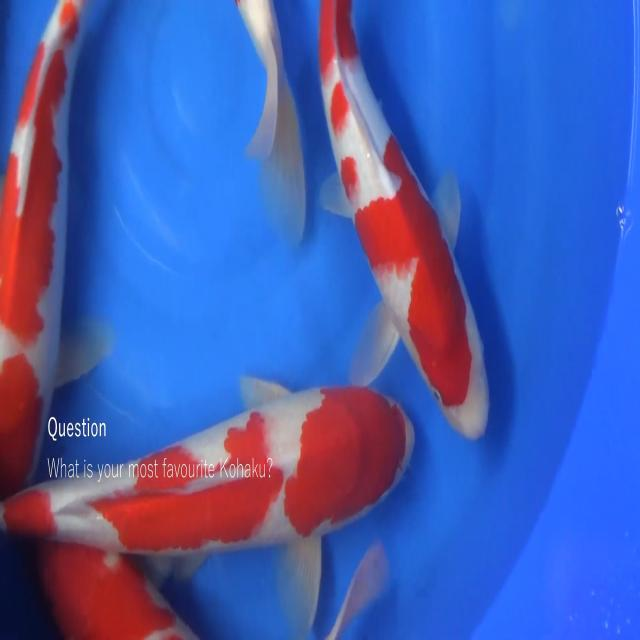Kohaku: (1, 374, 416, 638), (317, 0, 490, 440), (0, 0, 116, 496), (19, 497, 390, 640), (231, 0, 308, 252)
